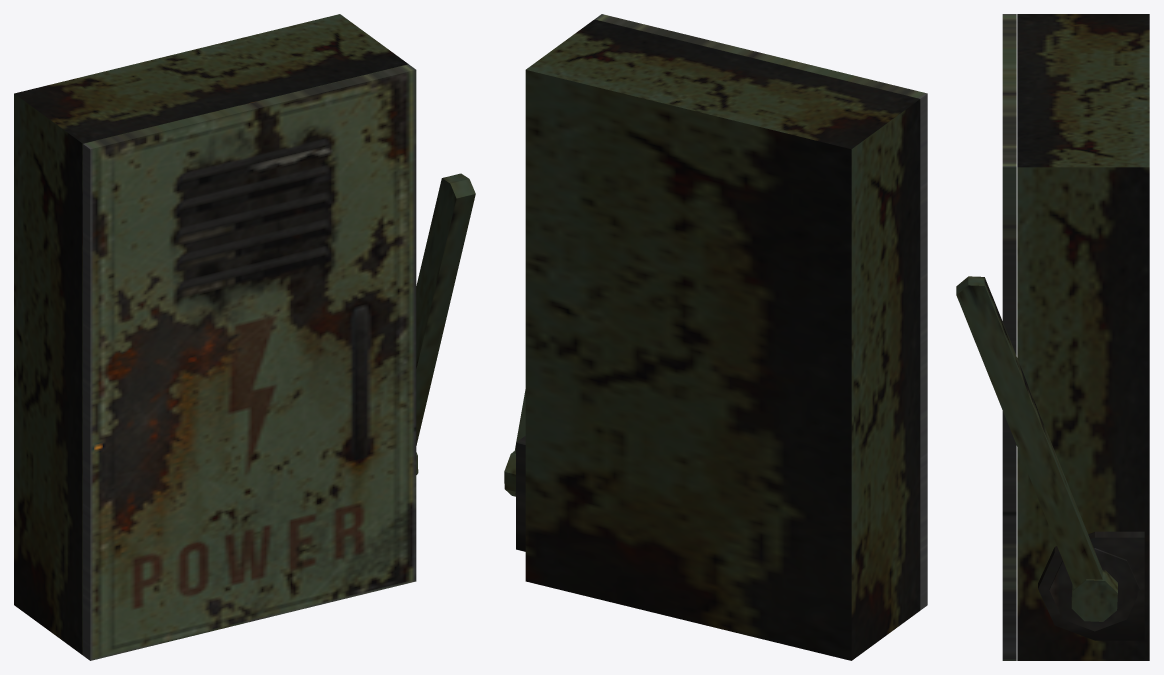
File: FUseBOx.fbx
3 renders of one model, left to right at view 1: azimuth 30°, elevation 25°; view 2: azimuth 150°, elevation 25°; view 3: azimuth 270°, elevation 25°, orthographic. The views are drawn at different scales.
Parts seen in each view (by area): view 1: Cover, FuseBOx, Handle; view 2: FuseBOx, Cover, Handle; view 3: FuseBOx, Handle, Cover.
Part boxes in pixels (box(x1,y1,x2,y2)): Cover: box(83, 64, 416, 660); FuseBOx: box(14, 14, 408, 655); Handle: box(416, 173, 475, 474); FuseBOx: box(515, 19, 920, 660); Cover: box(594, 14, 927, 610); Handle: box(504, 389, 525, 496); FuseBOx: box(1017, 14, 1149, 660); Handle: box(956, 276, 1117, 621); Cover: box(1002, 14, 1016, 660).
Size of the model in its own units: 44.64 by 60 by 21.27.
